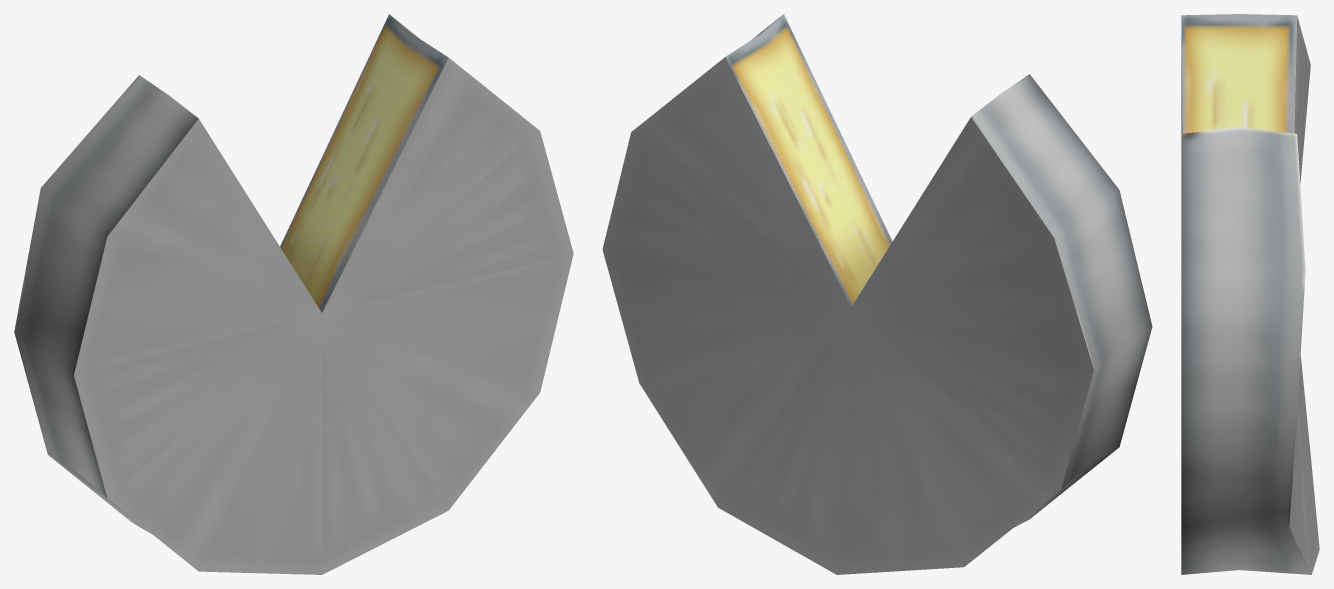
The model's file is Cheese_01.fbx.
3 renders of one model, left to right at view 1: azimuth 30°, elevation 25°; view 2: azimuth 150°, elevation 25°; view 3: azimuth 270°, elevation 25°, orthographic. The views are drawn at different scales.
Parts seen in each view (by area): view 1: Cheese_01; view 2: Cheese_01; view 3: Cheese_01.
Boxes of the visible parts, x1,y1,x2,y2 form: Cheese_01: [14, 14, 573, 574]; Cheese_01: [602, 14, 1152, 574]; Cheese_01: [1181, 14, 1319, 574].
Size of the model in its own units: 10.87 by 2.68 by 10.21.
